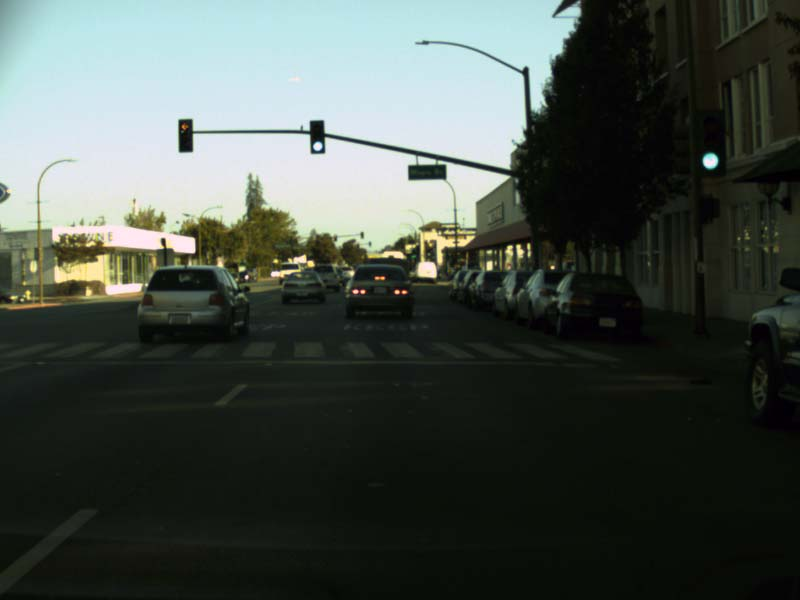Green: (699, 112, 726, 176), (309, 119, 324, 152), (409, 253, 416, 259)
Red: (177, 118, 193, 152), (333, 234, 336, 240)
